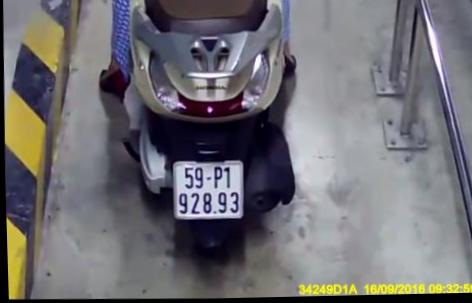LP: (170, 160, 243, 219)
